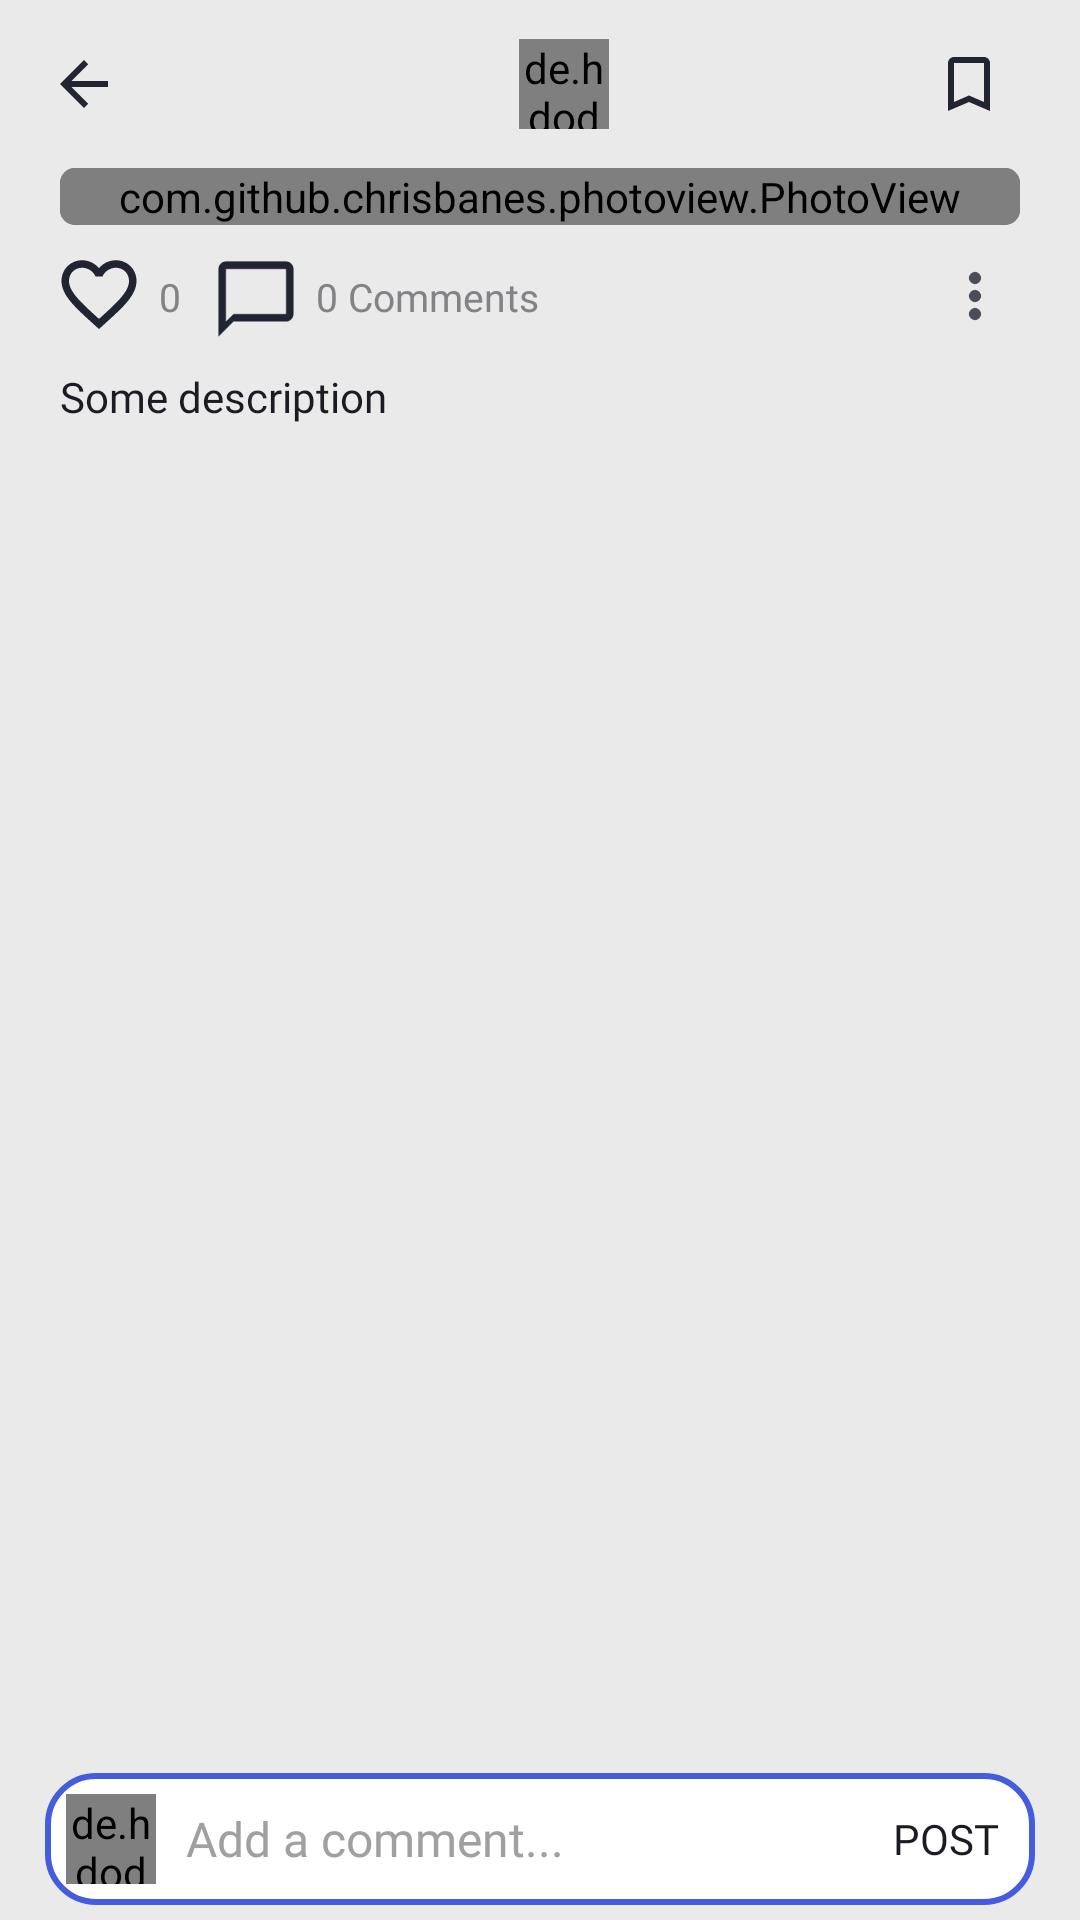

Icons on this 1080px×1920px Android screen, each with the point to tap as (x=x, y=y):
back: (x=84, y=84)
favorite: (x=99, y=294)
more: (x=975, y=296)
savee: (x=969, y=84)
